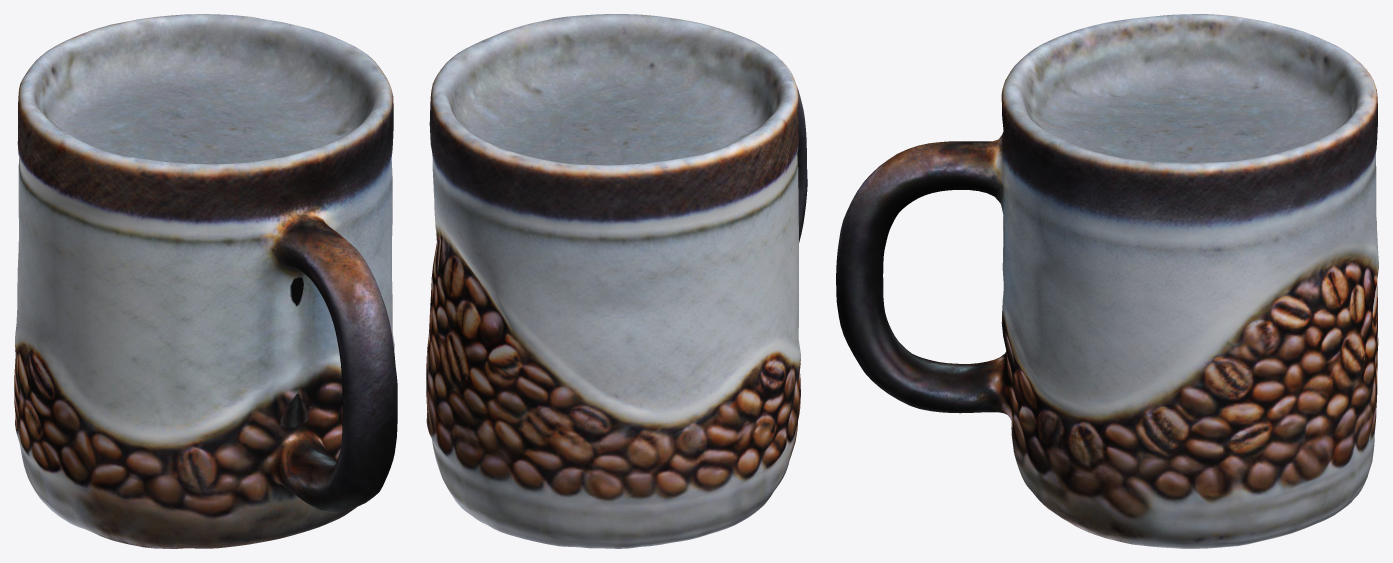
The model's file is coffee_mug_refined_4.glb.
3 renders of one model, left to right at view 1: azimuth 30°, elevation 25°; view 2: azimuth 150°, elevation 25°; view 3: azimuth 270°, elevation 25°, orthographic.
Parts seen in each view (by area): view 1: mesh; view 2: mesh; view 3: mesh.
Boxes of the visible parts, <box> form: mesh: <box>14,14,397,548</box>; mesh: <box>426,14,807,548</box>; mesh: <box>836,14,1378,548</box>.
Bounding box in the file's own units: 0.6903 × 0.7983 × 0.9993.
Materials: 1 (1 with a texture image).
